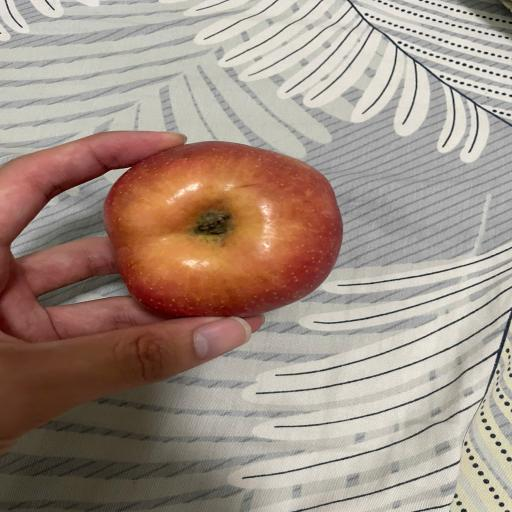apple: (103, 141, 342, 316)
